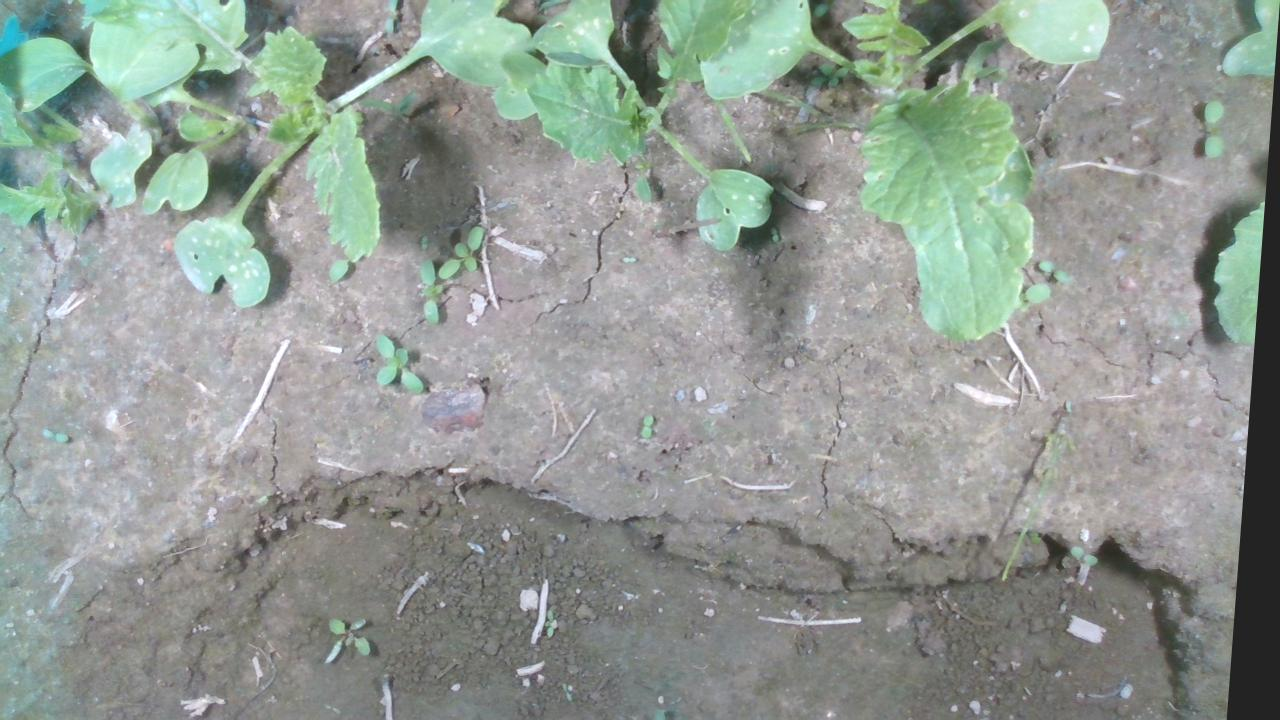weed: (375, 333, 434, 395), (45, 427, 77, 444), (646, 412, 660, 439)
